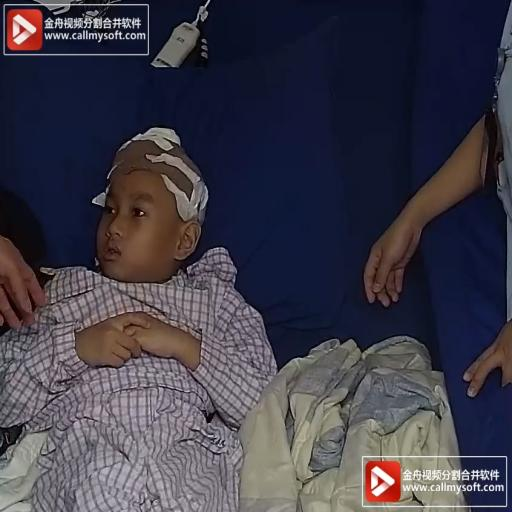Seizure: (89, 139, 197, 269)
